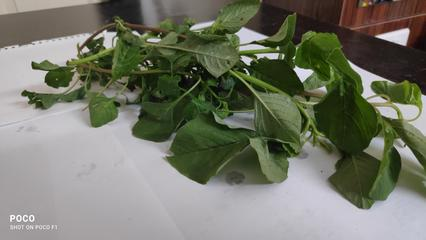spinach: (88, 11, 390, 180)
